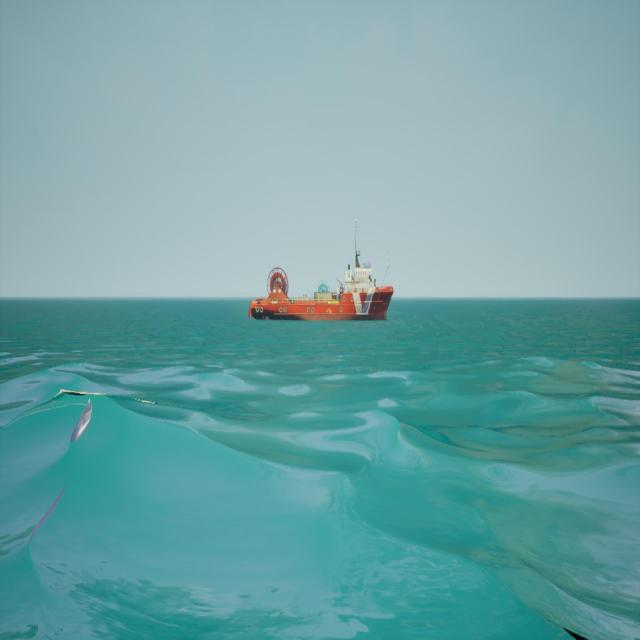tug boat: (249, 219, 396, 324)
